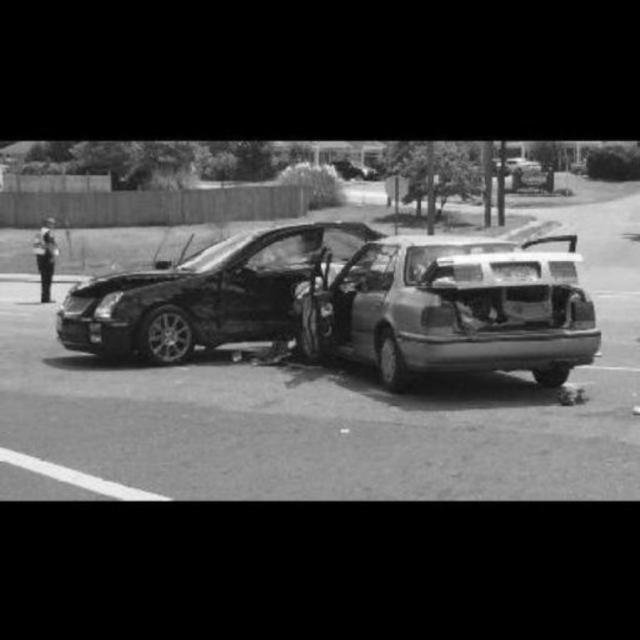accident: (63, 224, 594, 396)
person: (37, 214, 55, 307)
